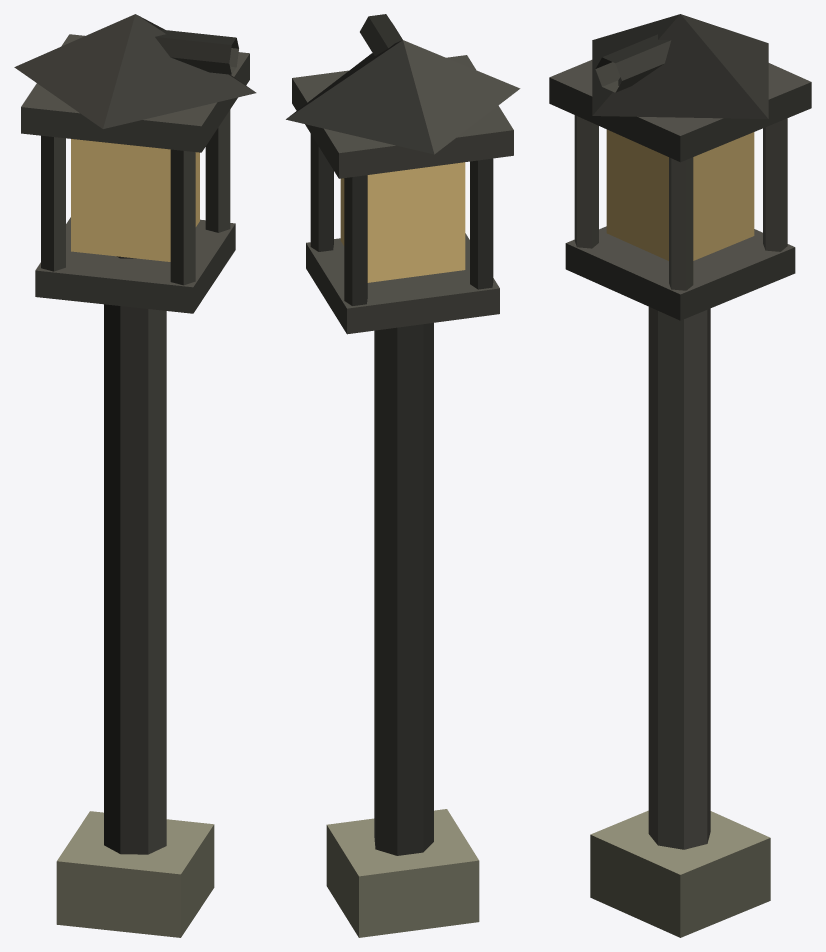
3 renders of one model, left to right at view 1: azimuth 30°, elevation 25°; view 2: azimuth 150°, elevation 25°; view 3: azimuth 270°, elevation 25°, orthographic. The views are drawn at different scales.
Visible parts, largest first — view 1: 421bf6d21d373b8e3b51b9808b91f6f7046e1379a5217520e6d06808758b; view 2: 421bf6d21d373b8e3b51b9808b91f6f7046e1379a5217520e6d06808758b; view 3: 421bf6d21d373b8e3b51b9808b91f6f7046e1379a5217520e6d06808758b.
Part boxes in pixels (x1,y1,x2,y2): 421bf6d21d373b8e3b51b9808b91f6f7046e1379a5217520e6d06808758b: [14, 14, 256, 937]; 421bf6d21d373b8e3b51b9808b91f6f7046e1379a5217520e6d06808758b: [286, 14, 520, 937]; 421bf6d21d373b8e3b51b9808b91f6f7046e1379a5217520e6d06808758b: [549, 14, 811, 937].
Bounding box in the file's own units: 0.9051 × 3.38 × 0.9051.
2 materials, 1 textured.
